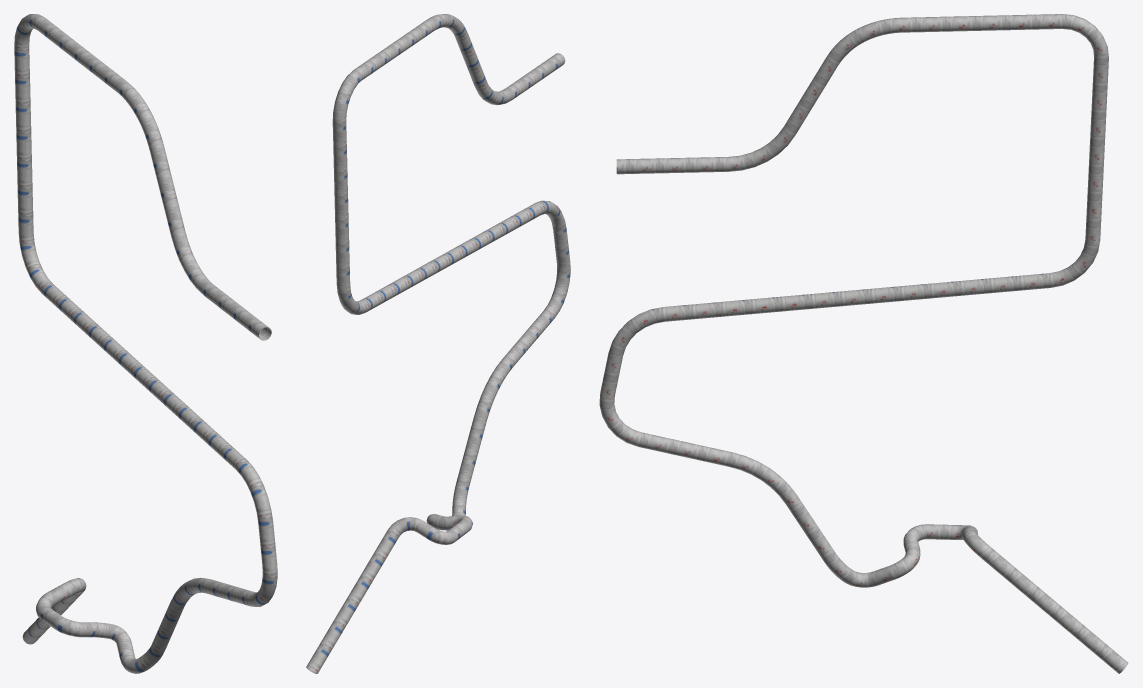
File: Pipe__19.fbx
The picture shows the model from 3 angles, left to right: view 1: azimuth 30°, elevation 25°; view 2: azimuth 150°, elevation 25°; view 3: azimuth 270°, elevation 25°; orthographic projection. The views are drawn at different scales.
Visible parts, largest first — view 1: MAT_Pipe_01; view 2: MAT_Pipe_01; view 3: MAT_Pipe_01.
Part boxes in pixels (bbox=[...]): MAT_Pipe_01: bbox=[14, 14, 277, 673]; MAT_Pipe_01: bbox=[306, 14, 570, 673]; MAT_Pipe_01: bbox=[599, 14, 1128, 673].
Size of the model in its own units: 6.32 by 47.82 by 35.31.
Materials: 1 (1 with a texture image).
